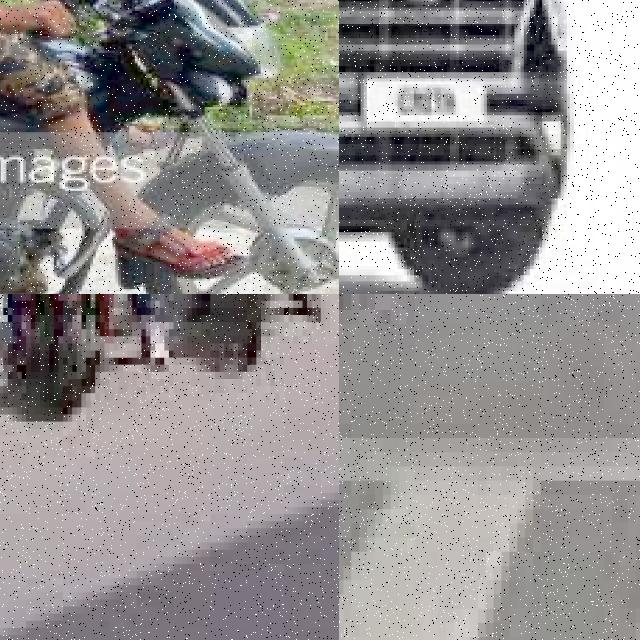bike: (0, 0, 339, 294), (0, 294, 145, 443), (196, 294, 316, 379)
car: (339, 0, 637, 294)
